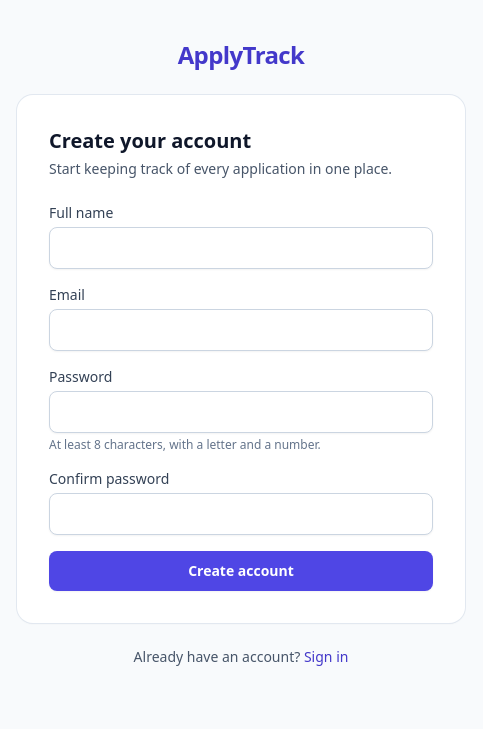
Test: RegisterPage › requires every field
The width and height of the screenshot is (483, 729).
Click the button "Create account": (241, 571) [49,551,433,591]
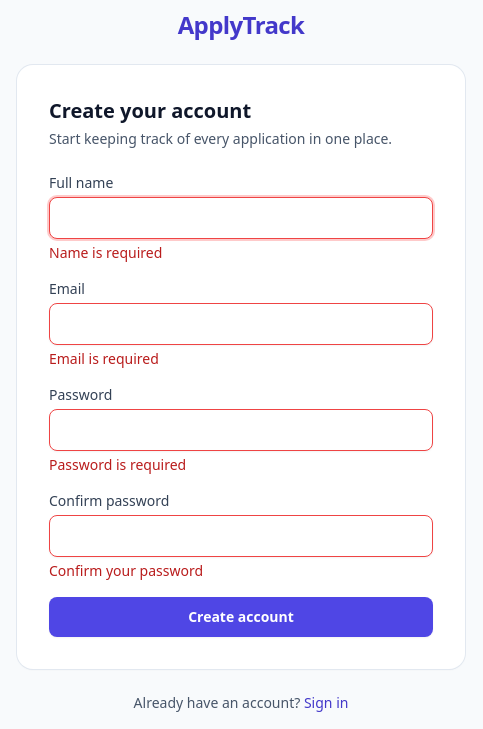
expect the text "Name is required" is shown: met, box [49,243,162,262]
expect the text "Email is required" is shown: met, box [49,349,159,368]
expect the text "Password is required" is shown: met, box [49,455,186,474]
